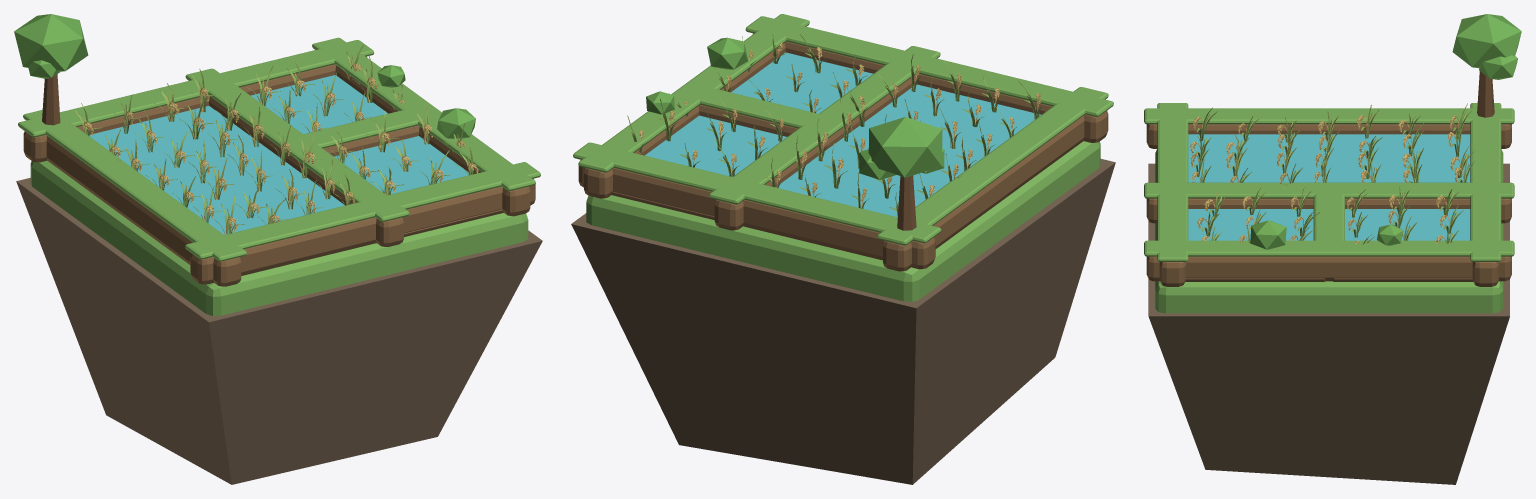
The model's file is paddy-sandbox.glb.
3 views of the same model, side by side, from view 1: azimuth 30°, elevation 25°; view 2: azimuth 150°, elevation 25°; view 3: azimuth 270°, elevation 25° (orthographic). The views are drawn at different scales.
Visible parts, largest first — view 1: Base_Rock, Base_TopSoil, Plot_A_Water, Ridge_Perim_B, RidgeCap_Perim_B, RidgeCap_Perim_L, RidgeCap_Div_ABC, RidgeCap_Perim_T, Ridge_Perim_L, Tree_01, RidgeCap_Perim_R, Plot_C_Water (+7 smaller); view 2: Base_Rock, Base_TopSoil, Plot_A_Water, Ridge_Perim_T, RidgeCap_Perim_B, RidgeCap_Perim_T, RidgeCap_Perim_L, RidgeCap_Div_ABC, Tree_01, RidgeCap_Perim_R, Ridge_Perim_L, Plot_C_Water (+7 smaller); view 3: Base_Rock, Plot_A_Water, Base_TopSoil, Ridge_Perim_R, RidgeCap_Div_ABC, RidgeCap_Perim_L, RidgeCap_Perim_B, RidgeCap_Perim_R, RidgeCap_Perim_T, Tree_01, Plot_B_Water, Ridge_Perim_L (+9 smaller).
Part boxes in pixels (box(x1,y1,x2,y2)): Base_Rock: box(16, 177, 542, 484); Base_TopSoil: box(30, 160, 528, 316); Plot_A_Water: box(89, 106, 344, 234); Ridge_Perim_B: box(190, 178, 535, 284); RidgeCap_Perim_B: box(185, 162, 540, 259); RidgeCap_Perim_L: box(23, 110, 246, 261); RidgeCap_Div_ABC: box(185, 68, 409, 221); RidgeCap_Perim_T: box(18, 40, 374, 137); Ridge_Perim_L: box(46, 136, 241, 286); Tree_01: box(14, 14, 88, 125); RidgeCap_Perim_R: box(312, 37, 535, 191); Plot_C_Water: box(334, 136, 468, 195); Base_Rock: box(571, 159, 1115, 484); Base_TopSoil: box(586, 141, 1100, 301); Plot_A_Water: box(775, 84, 1041, 217); Ridge_Perim_T: box(578, 160, 935, 269); RidgeCap_Perim_B: box(745, 16, 1113, 116); RidgeCap_Perim_T: box(573, 142, 941, 243); RidgeCap_Perim_L: box(877, 87, 1108, 245); RidgeCap_Div_ABC: box(709, 46, 940, 204); Tree_01: box(859, 117, 944, 230); RidgeCap_Perim_R: box(578, 14, 809, 172); Ridge_Perim_L: box(883, 116, 1084, 271); Plot_C_Water: box(731, 52, 873, 113); Base_Rock: box(1148, 163, 1509, 484); Plot_A_Water: box(1188, 134, 1470, 182); Base_TopSoil: box(1155, 149, 1503, 313); Ridge_Perim_R: box(1146, 256, 1511, 281); RidgeCap_Div_ABC: box(1144, 182, 1514, 198); RidgeCap_Perim_L: box(1144, 108, 1514, 124); RidgeCap_Perim_B: box(1157, 103, 1188, 261); RidgeCap_Perim_R: box(1144, 240, 1514, 256); RidgeCap_Perim_T: box(1470, 103, 1501, 261); Tree_01: box(1452, 14, 1521, 117); Plot_B_Water: box(1345, 209, 1470, 240); Ridge_Perim_L: box(1146, 124, 1511, 148).
Size of the model in its own units: 4.32 by 4.61 by 4.34.
